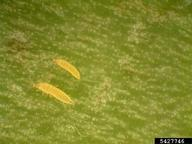Thrips: (28, 78, 78, 105), (48, 53, 82, 82)
